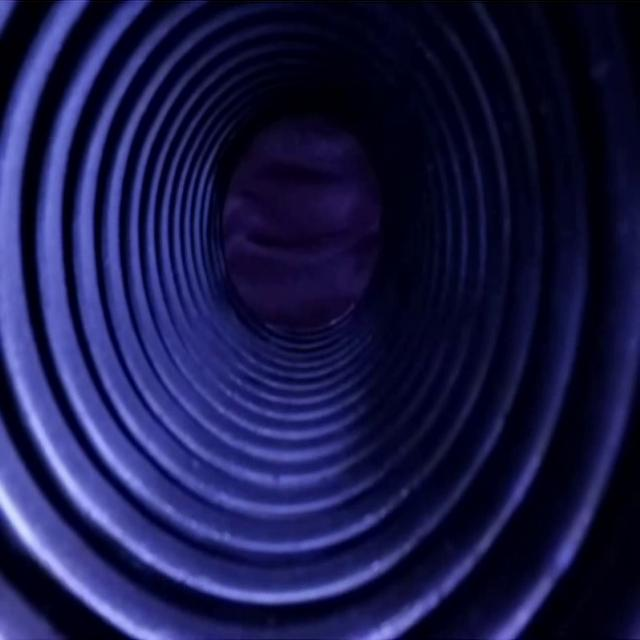block: (218, 122, 380, 330)
